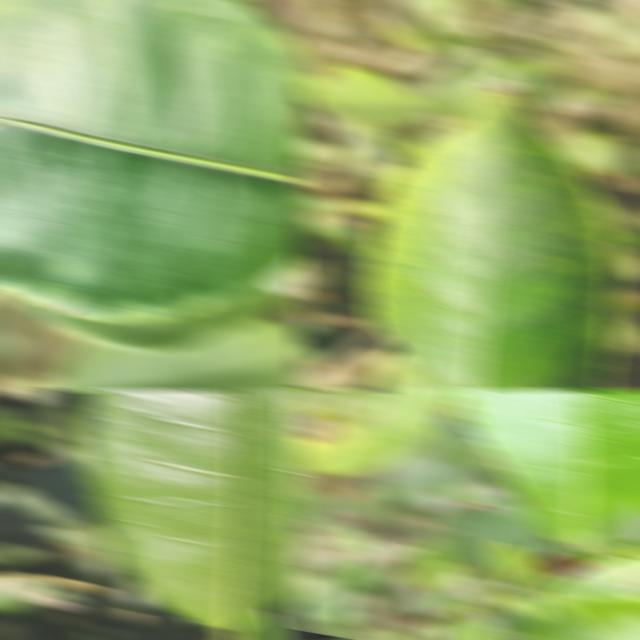Leaf: (0, 0, 306, 322), (364, 87, 620, 391), (82, 389, 306, 631), (454, 389, 640, 547), (22, 318, 306, 391), (294, 389, 462, 476), (416, 57, 566, 119), (299, 66, 430, 130), (538, 593, 640, 640), (437, 606, 498, 640), (410, 0, 460, 34)
